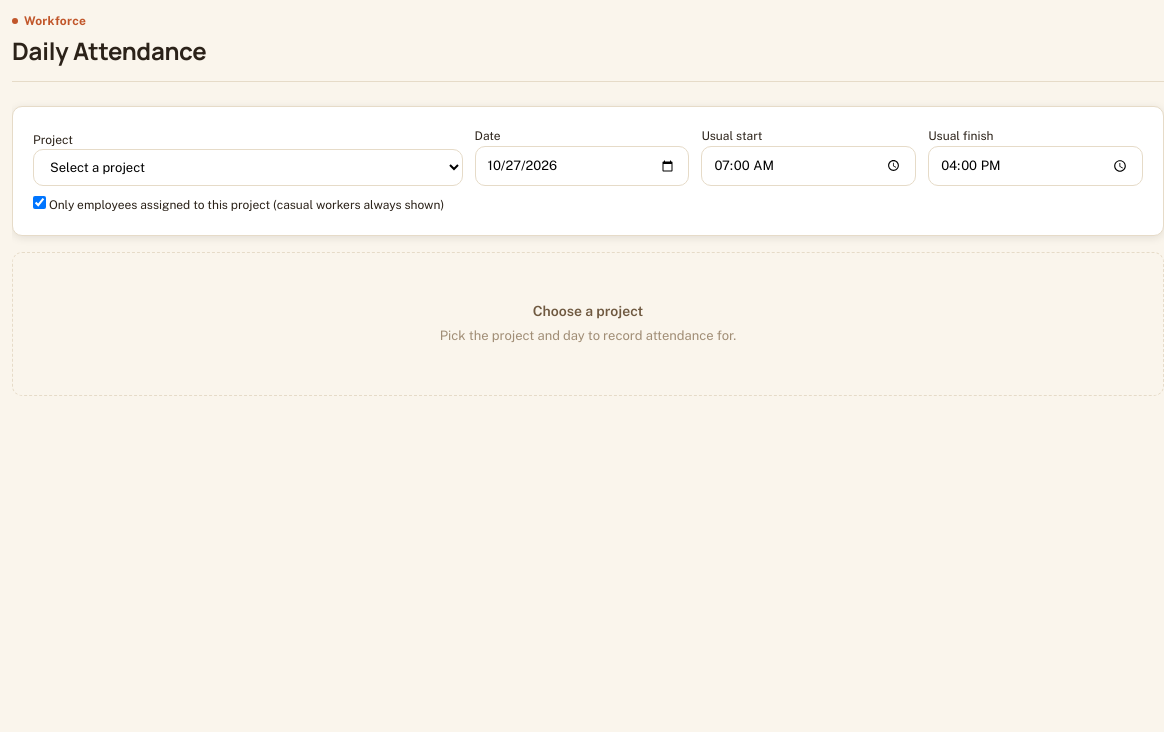
Test: AttendancePage › lists assigned employees plus casual workers, hiding other sites' staff
Select "Lekki Tower" in the dropdown labelled "Project" at (248, 168), box [33,149,463,186]
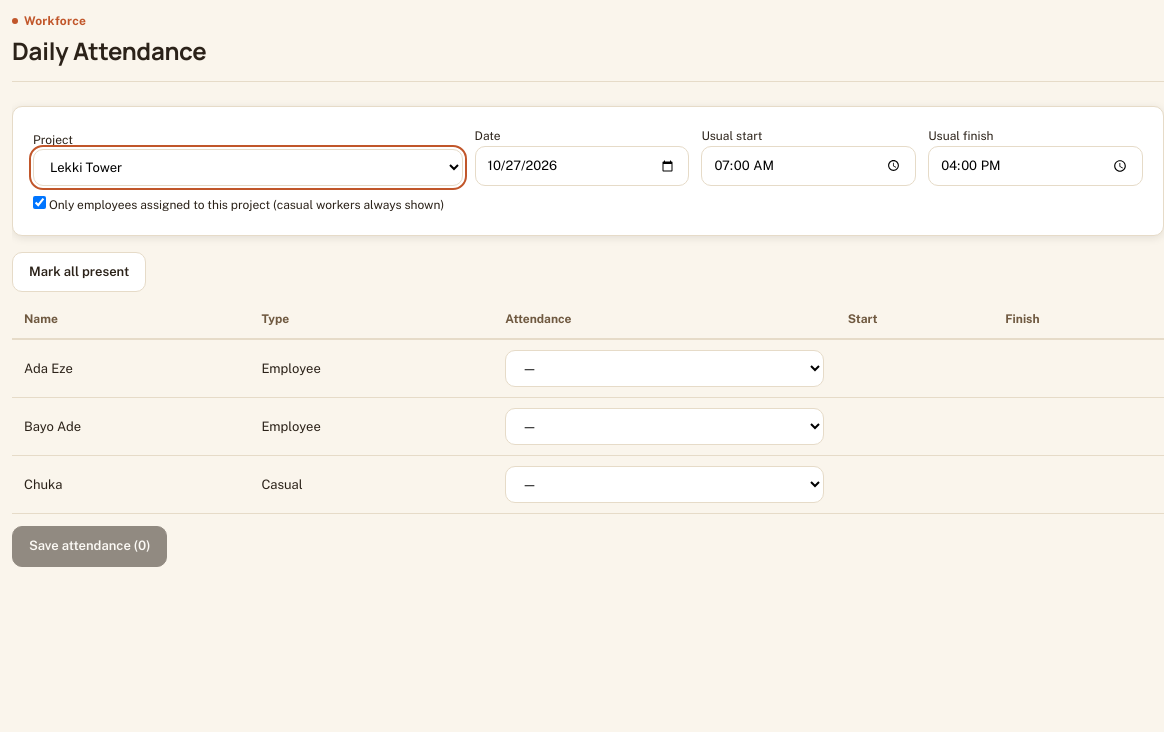
Now the text "Ada Eze" is shown, box [12,340,249,398]
Now the text "Chuka" is shown, box [12,456,249,514]
